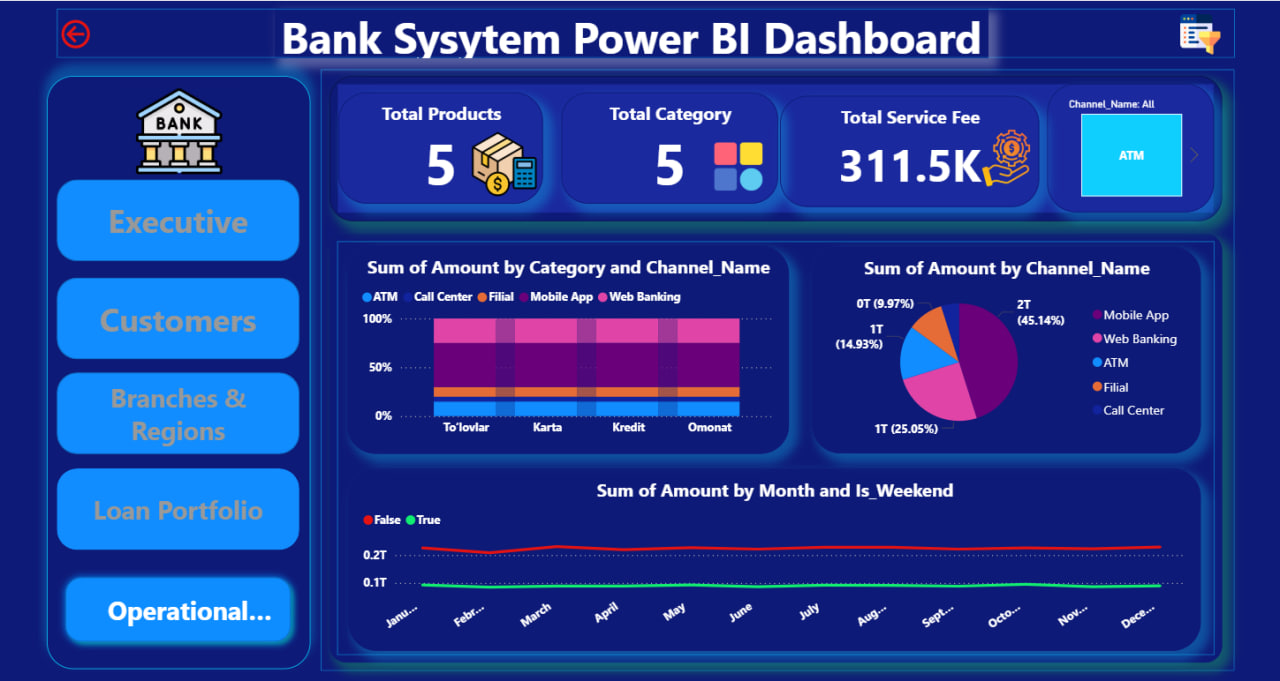

Layout of this report page (visuals, bound fields, positions):
{"tool":"powerbi","page":{"name":"Operational Efficiency","canvas":[1280,720],"ordinal":4},"visuals":[{"type":"shape","box":[19.9,8.7,1244,52.2],"z":0},{"type":"shape","box":[298.8,72.5,965,636.2],"z":1000},{"type":"shape","box":[307.5,246.2,942.5,453.8],"z":2000},{"type":"image","box":[1173.8,8.8,106.2,52.5],"z":3000},{"type":"shape","box":[8.8,78.8,278.8,627.5],"z":4000},{"type":"textbox","title":"Bank Sysytem Power BI Dashboard ","box":[250,7.5,753.8,53.8],"z":5000},{"type":"shape","box":[20,188.8,256.2,86.2],"z":6000},{"type":"shape","box":[20,292.5,256.2,86.2],"z":7000},{"type":"shape","box":[20,392.5,256.2,86.2],"z":8000},{"type":"shape","box":[20,493.8,256.2,86.2],"z":9000},{"type":"shape","box":[20,600,256.2,86.2],"z":10000},{"type":"image","box":[87.5,87.5,123.8,101.2],"z":11000},{"type":"actionButton","box":[20,15,100,40],"z":12000},{"type":"shape","box":[307.5,78.8,942.5,153.8],"z":13000},{"type":"card","title":"Total Products","fields":{"Values":["page_5.Total Products"]},"box":[317.5,96.2,216.2,117.5],"z":14000},{"type":"card","title":"Total Category","fields":{"Values":["page_5.Total Category"]},"box":[552.5,96.2,228.8,117.5],"z":15000},{"type":"card","title":"Total Service Fee","fields":{"Values":["page_5.Service Fee"]},"box":[783.8,100,273.8,117.5],"z":16000},{"type":"slicer","fields":{"Values":["Dim_Channel.Channel_Name"]},"box":[1065,87.5,176.2,136.2],"z":17000},{"type":"image","box":[451.2,130,82.5,83.8],"z":18000},{"type":"image","box":[698.8,136.2,82.5,77.5],"z":19000},{"type":"image","box":[987.5,130,70,71.2],"z":20000},{"type":"pieChart","fields":{"Category":["Dim_Channel.Channel_Name"],"Y":["Sum(Fact_Transactions.Amount)"]},"box":[817.5,260,410,218.8],"z":21000},{"type":"hundredPercentStackedColumnChart","fields":{"Category":["Dim_Products.Category"],"Series":["Dim_Channel.Channel_Name"],"Y":["Sum(Fact_Transactions.Amount)"]},"box":[326.2,258.8,466.2,220],"z":22000},{"type":"lineChart","fields":{"Category":["Dim_Date.Full_Date.Variation.Date Hierarchy.Month"],"Y":["Sum(Fact_Transactions.Amount)"],"Series":["Dim_Date.Is_Weekend"]},"box":[327.5,493.8,900,192.5],"z":23000}]}

Visuals, with their boxes on the page's 1280x720 design canvas (x1, y1, x2, y2). These are canvas units, not pixel positions in the 1280x681 screenshot, which may show the page scaled, cropped or inside an application window:
shape: rect(20, 9, 1264, 61)
shape: rect(299, 72, 1264, 709)
shape: rect(308, 246, 1250, 700)
image: rect(1174, 9, 1280, 61)
shape: rect(9, 79, 288, 706)
"Bank Sysytem Power BI Dashboard " textbox: rect(250, 8, 1004, 61)
shape: rect(20, 189, 276, 275)
shape: rect(20, 292, 276, 379)
shape: rect(20, 392, 276, 479)
shape: rect(20, 494, 276, 580)
shape: rect(20, 600, 276, 686)
image: rect(88, 88, 211, 189)
actionButton: rect(20, 15, 120, 55)
shape: rect(308, 79, 1250, 233)
"Total Products" card: rect(318, 96, 534, 214)
"Total Category" card: rect(552, 96, 781, 214)
"Total Service Fee" card: rect(784, 100, 1058, 218)
slicer - Dim_Channel.Channel_Name: rect(1065, 88, 1241, 224)
image: rect(451, 130, 534, 214)
image: rect(699, 136, 781, 214)
image: rect(988, 130, 1058, 201)
pieChart - Dim_Channel.Channel_Name x Sum(Fact_Transactions.Amount): rect(818, 260, 1228, 479)
hundredPercentStackedColumnChart - Dim_Products.Category x Dim_Channel.Channel_Name: rect(326, 259, 792, 479)
lineChart - Dim_Date.Full_Date.Variation.Date Hierarchy.Month x Sum(Fact_Transactions.Amount): rect(328, 494, 1228, 686)
